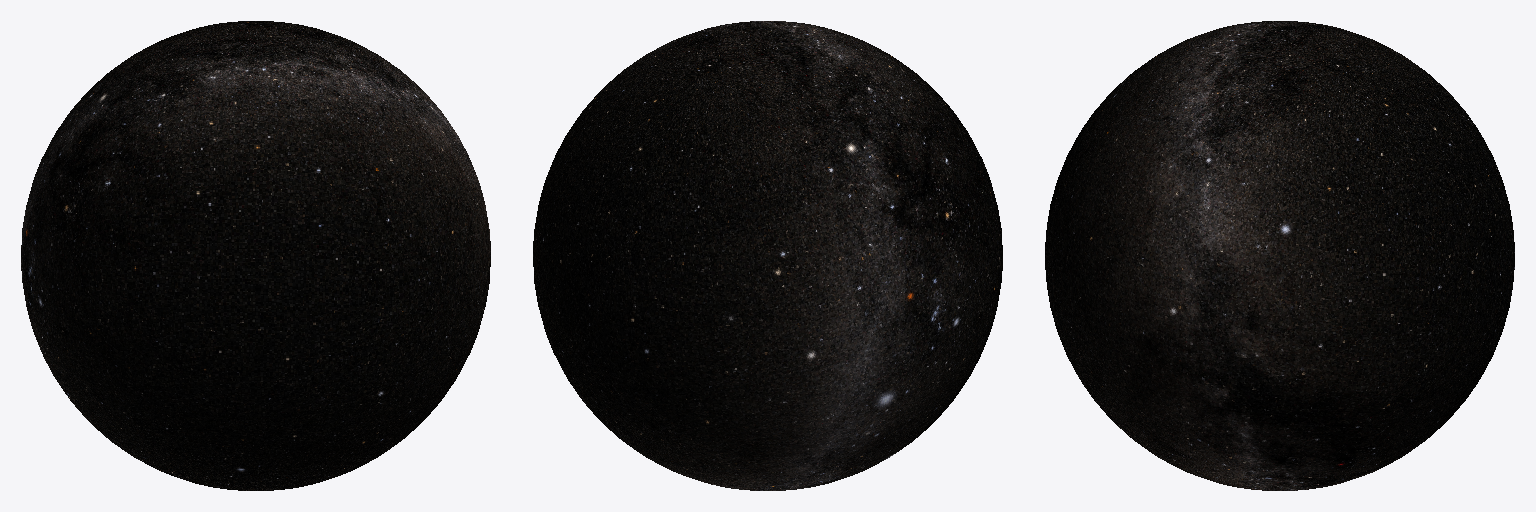
3 views of the same model, side by side, from view 1: azimuth 30°, elevation 25°; view 2: azimuth 150°, elevation 25°; view 3: azimuth 270°, elevation 25° (orthographic).
Parts seen in each view (by area): view 1: Sphere_Sphere.001; view 2: Sphere_Sphere.001; view 3: Sphere_Sphere.001.
Part boxes in pixels (left/top/right/bottom): Sphere_Sphere.001: left=21, top=21, right=490, bottom=490; Sphere_Sphere.001: left=533, top=21, right=1002, bottom=490; Sphere_Sphere.001: left=1045, top=21, right=1514, bottom=490.
Bounding box in the file's own units: 2 × 1.99 × 2.
1 materials, 1 textured.